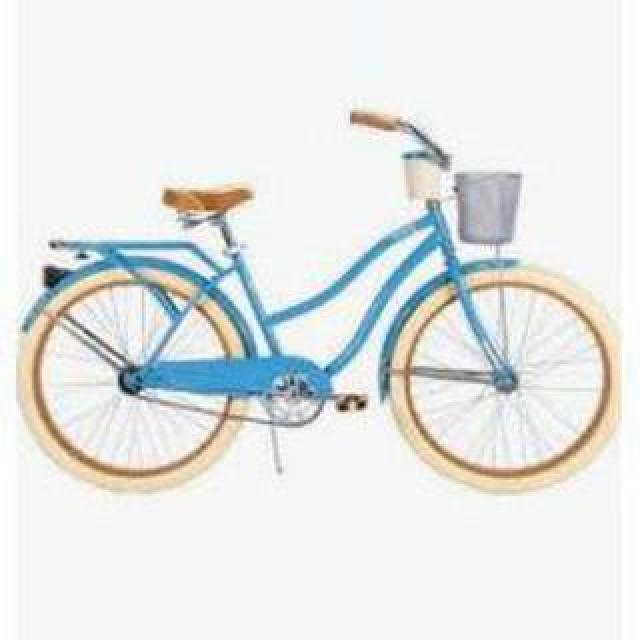Person: (22, 109, 620, 495)
